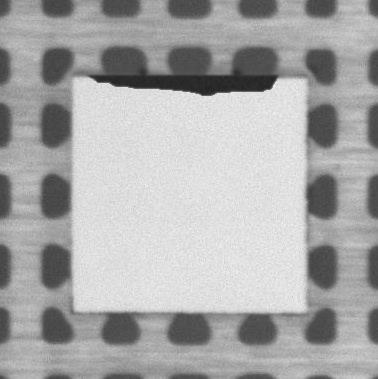DIE_BROKEN: (89, 69, 282, 95)
